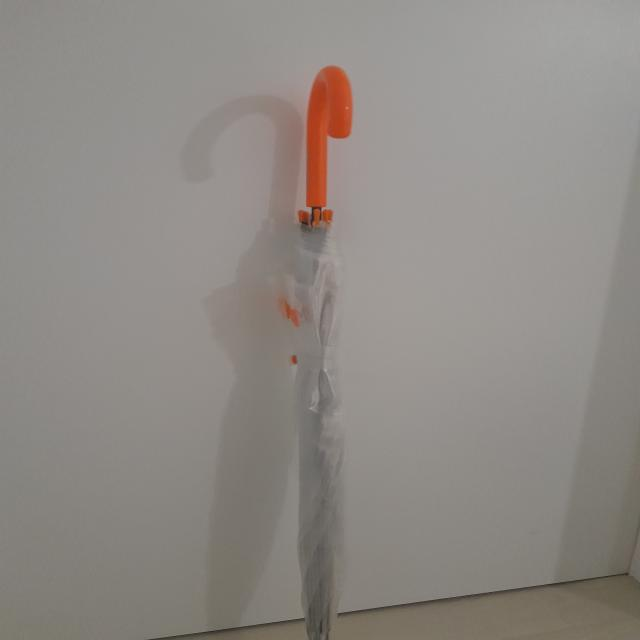umbrella: (263, 67, 358, 637)
